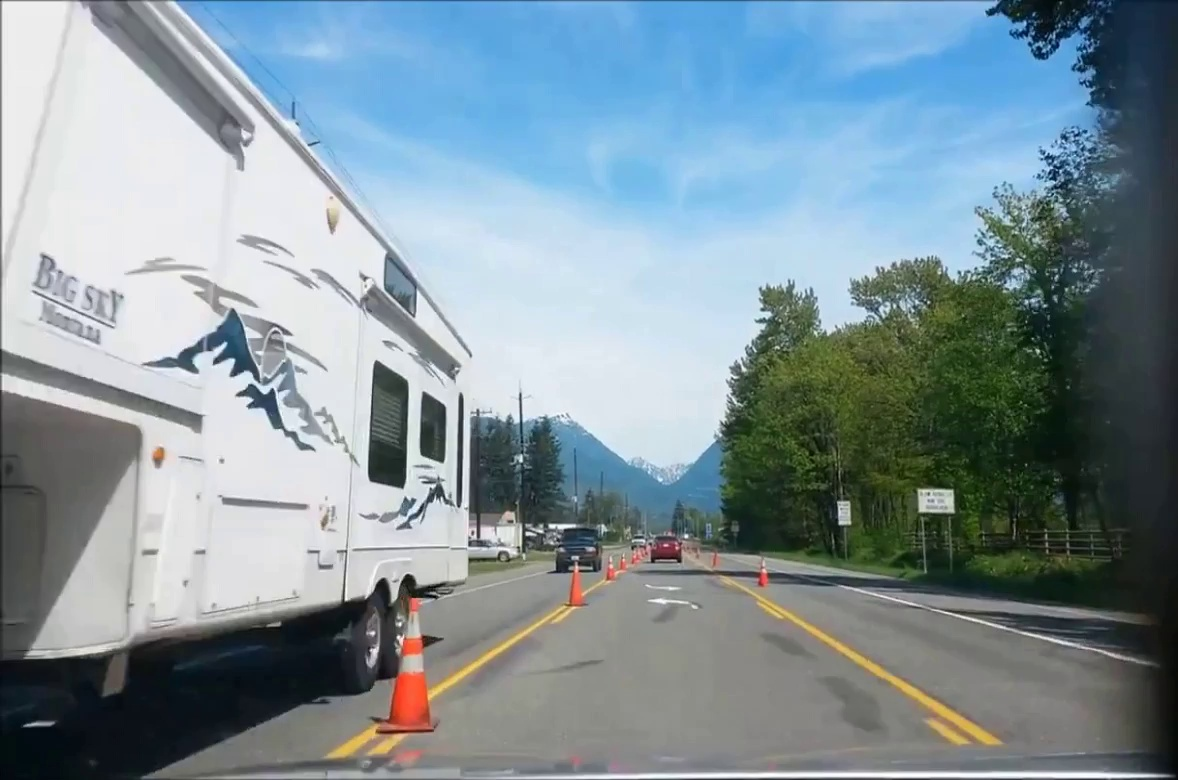Cone: (382, 597, 437, 734), (568, 562, 589, 606), (604, 550, 619, 581)
